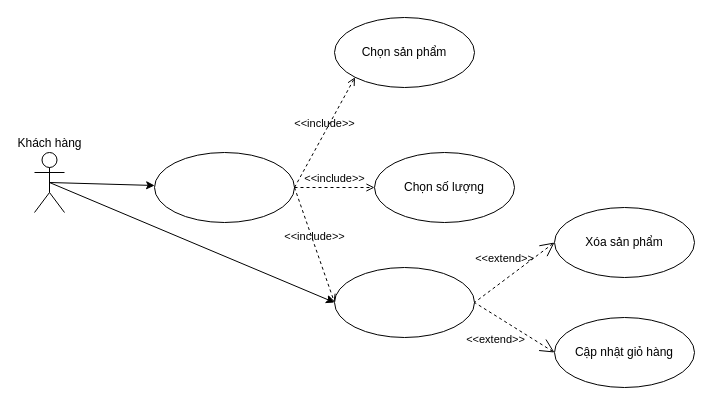
Image size: 712x405. Some labels were removed from this diagram. Here are the shapes that lost their labels. From the top down, the centre of each, then its label:
the point at 224,187: Thêm vào giỏ hàng
the point at 404,302: Xem giỏ hàng
